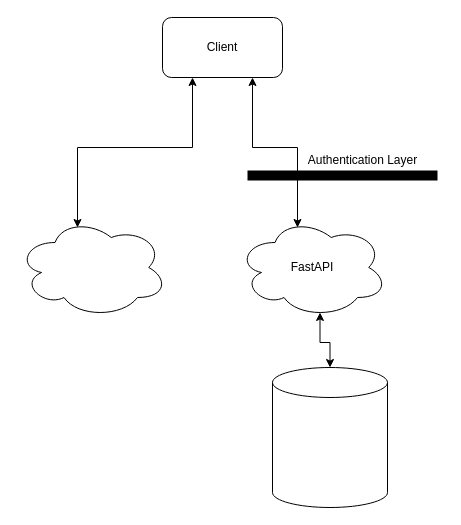
The diagram is 461 pixels wide and 525 high, and some of its shapes have lost their labels. Each missing label, with the centre of its shape:
Database: point (330, 437)
Web Server: point (92, 267)
